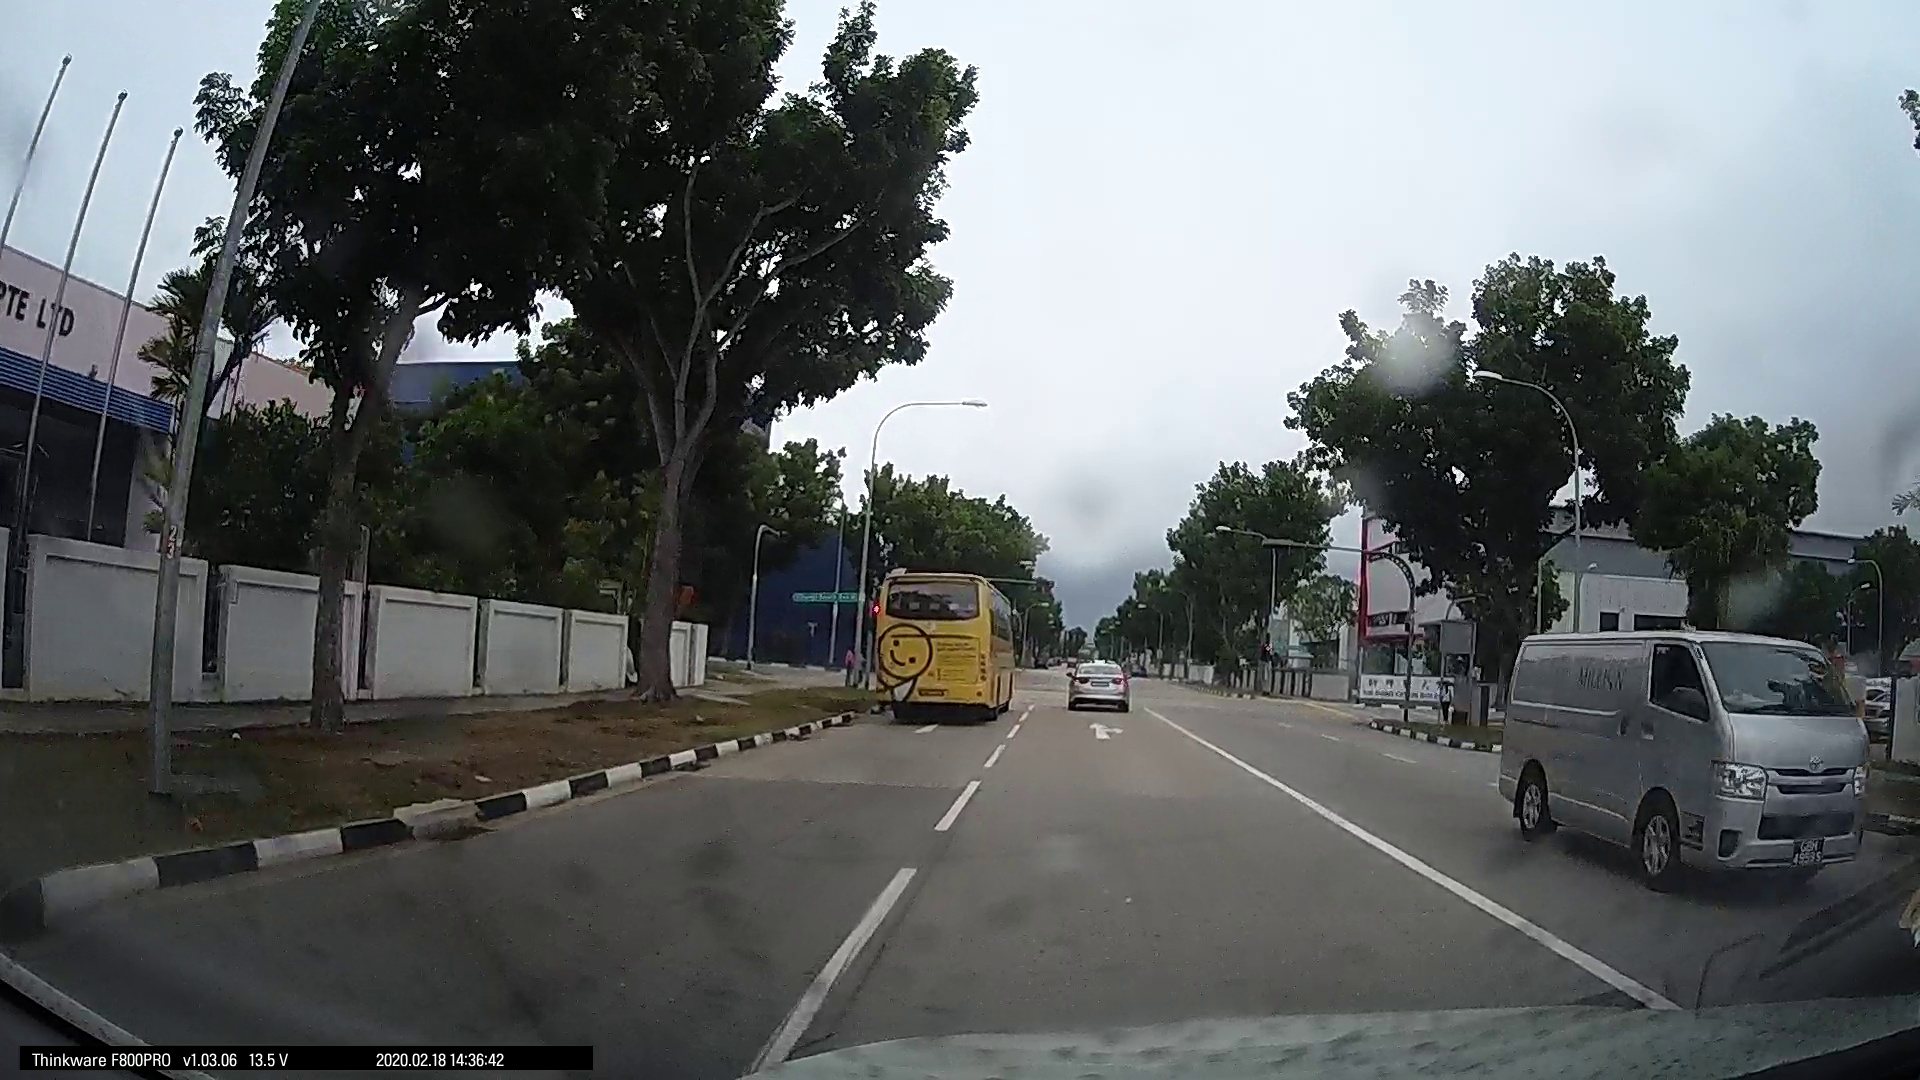Heavy Vehicle: (870, 560, 1014, 735)
Light Vehicle: (1482, 615, 1874, 891), (1062, 655, 1131, 715)
